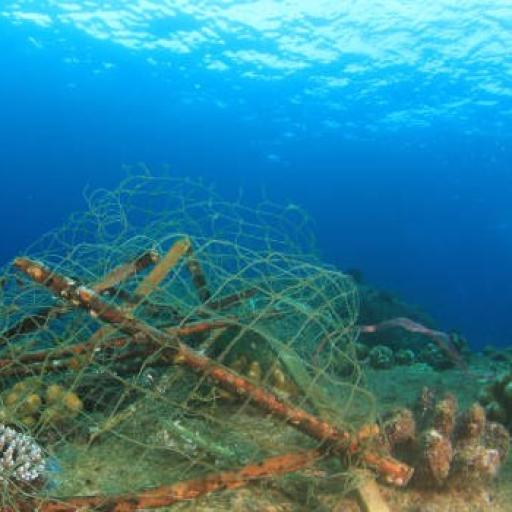net: (0, 166, 382, 508)
